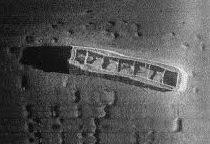ship: (66, 43, 189, 92)
